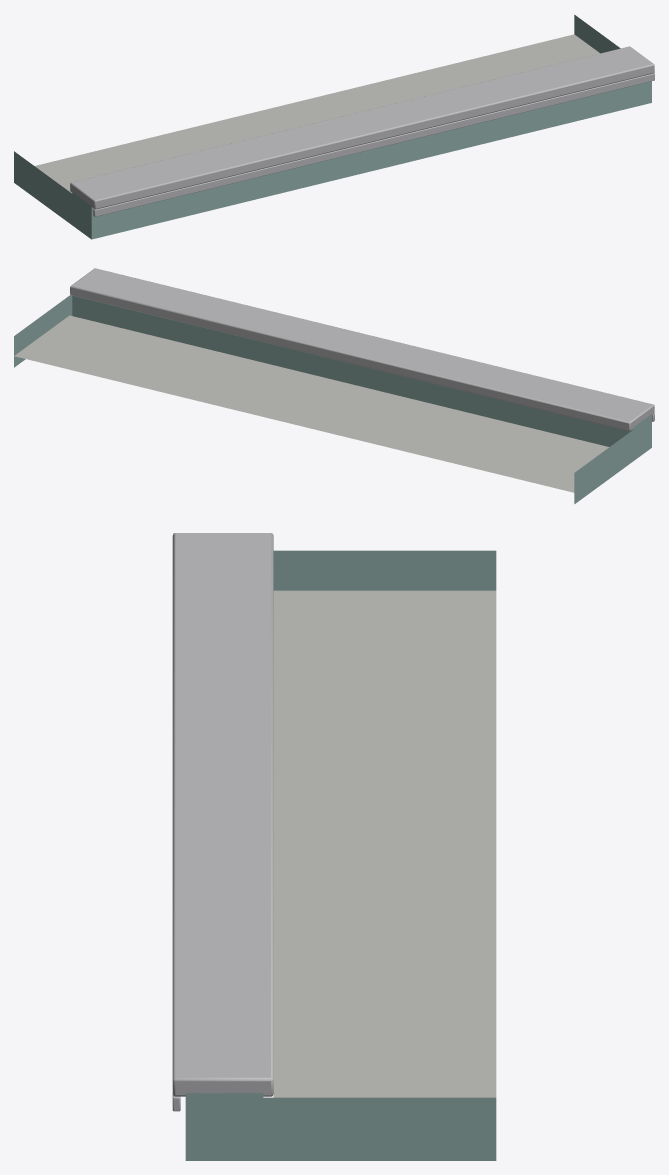
Rendered from cap_flat_5.glb.
3 views of the same model, one above another, from view 1: azimuth 30°, elevation 25°; view 2: azimuth 150°, elevation 25°; view 3: azimuth 270°, elevation 25° (orthographic). The views are drawn at different scales.
Visible parts, largest first — view 1: cap_flat_5; view 2: cap_flat_5; view 3: cap_flat_5.
Part boxes in pixels (bbox=[...]): cap_flat_5: bbox=[14, 14, 654, 239]; cap_flat_5: bbox=[14, 268, 654, 504]; cap_flat_5: bbox=[172, 533, 496, 1160].
Bounding box in the file's own units: 5 × 0.35 × 1.25.
